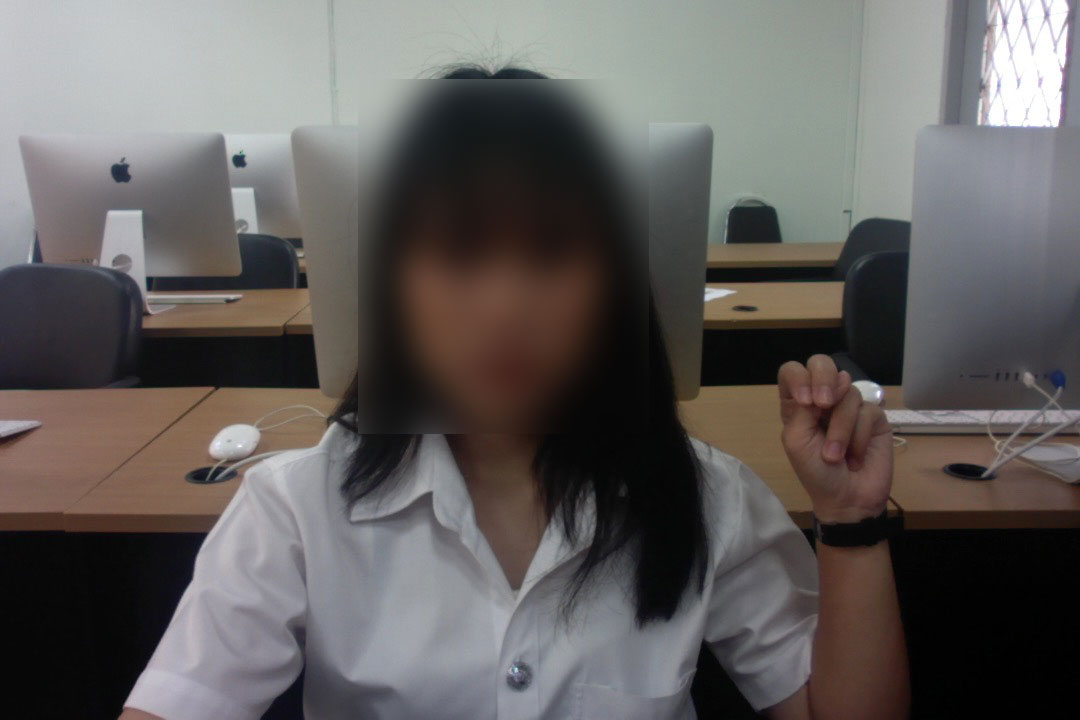nor: (765, 343, 901, 516)
